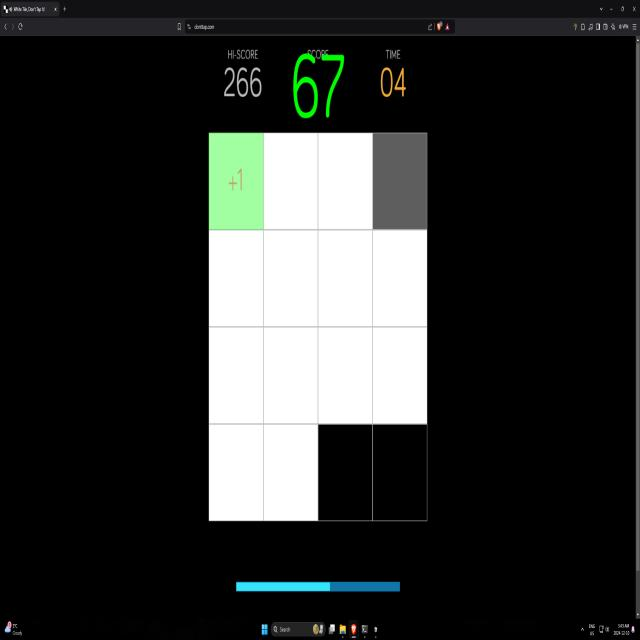black-tile: (316, 420, 374, 522), (371, 420, 428, 523)
